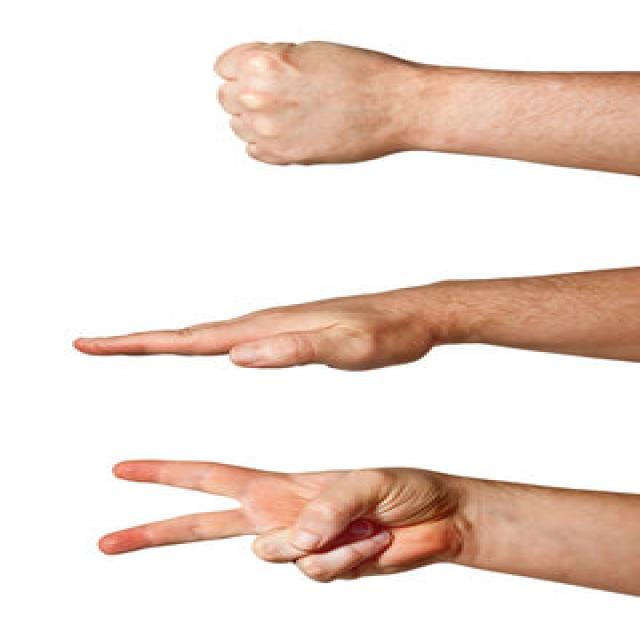paper: (33, 255, 500, 389)
rock: (130, 25, 500, 191)
scirssors: (87, 437, 536, 616)
